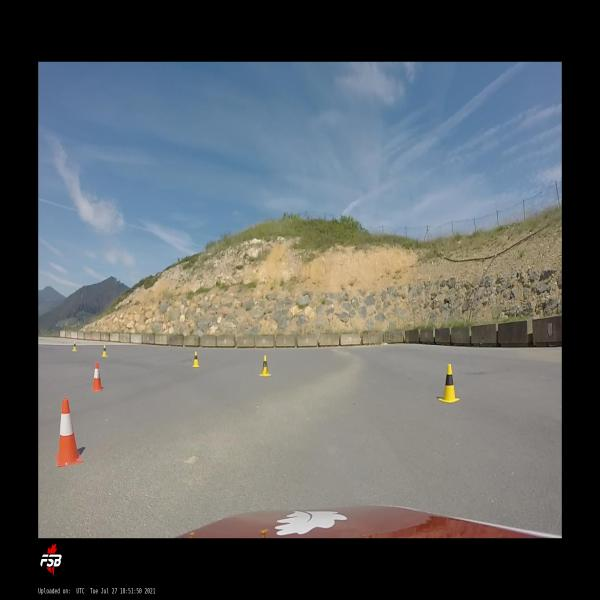orange_cone: (54, 398, 83, 468), (91, 362, 104, 391)
yellow_cone: (438, 364, 460, 403), (259, 355, 271, 377), (192, 351, 200, 368), (101, 344, 108, 358), (72, 342, 78, 352)
